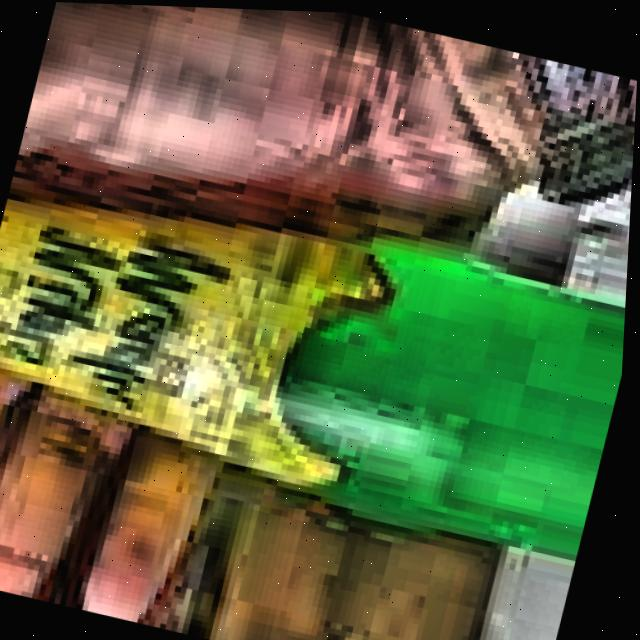plastic: (0, 85, 637, 602)
